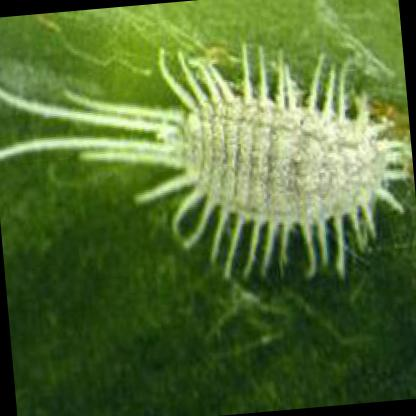mealy bug: (0, 44, 406, 271)
